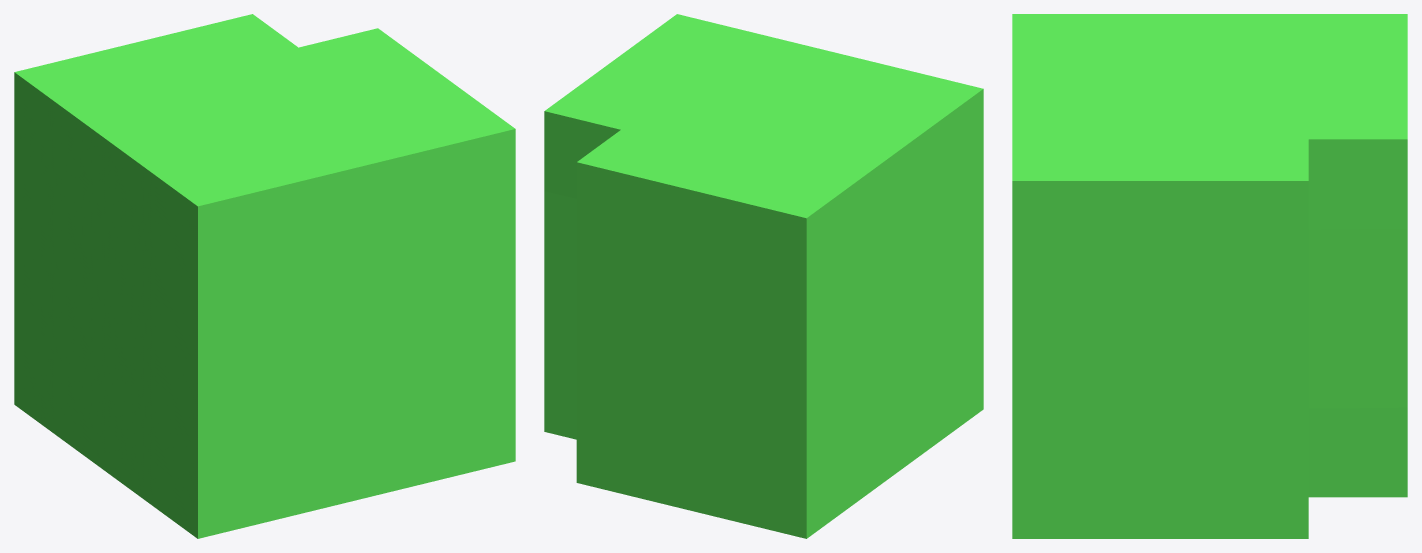
The model's file is Tiles3D_Sol_angle_int_N.fbx.
The picture shows the model from 3 angles, left to right: view 1: azimuth 30°, elevation 25°; view 2: azimuth 150°, elevation 25°; view 3: azimuth 270°, elevation 25°; orthographic projection. The views are drawn at different scales.
Visible parts, largest first — view 1: Tiles3D_sol_angle_int_N; view 2: Tiles3D_sol_angle_int_N; view 3: Tiles3D_sol_angle_int_N.
Boxes of the visible parts, x1,y1,x2,y2 form: Tiles3D_sol_angle_int_N: (14,14,515,538); Tiles3D_sol_angle_int_N: (544,14,983,538); Tiles3D_sol_angle_int_N: (1012,14,1407,538).
Bounding box in the file's own units: 100 × 100 × 100.
1 material, 1 textured.
